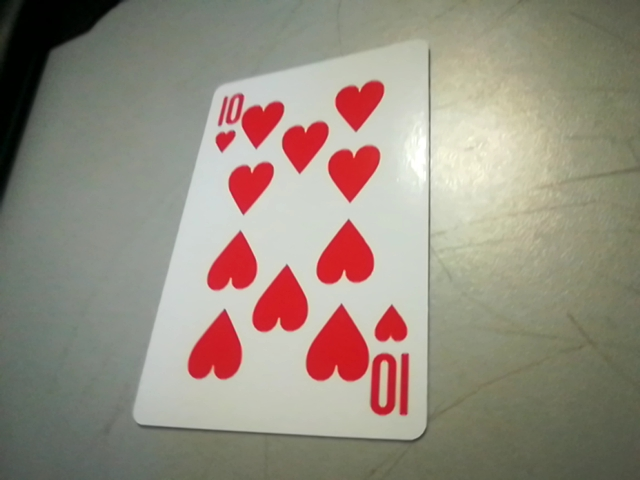hx 10: (366, 300, 423, 425)
